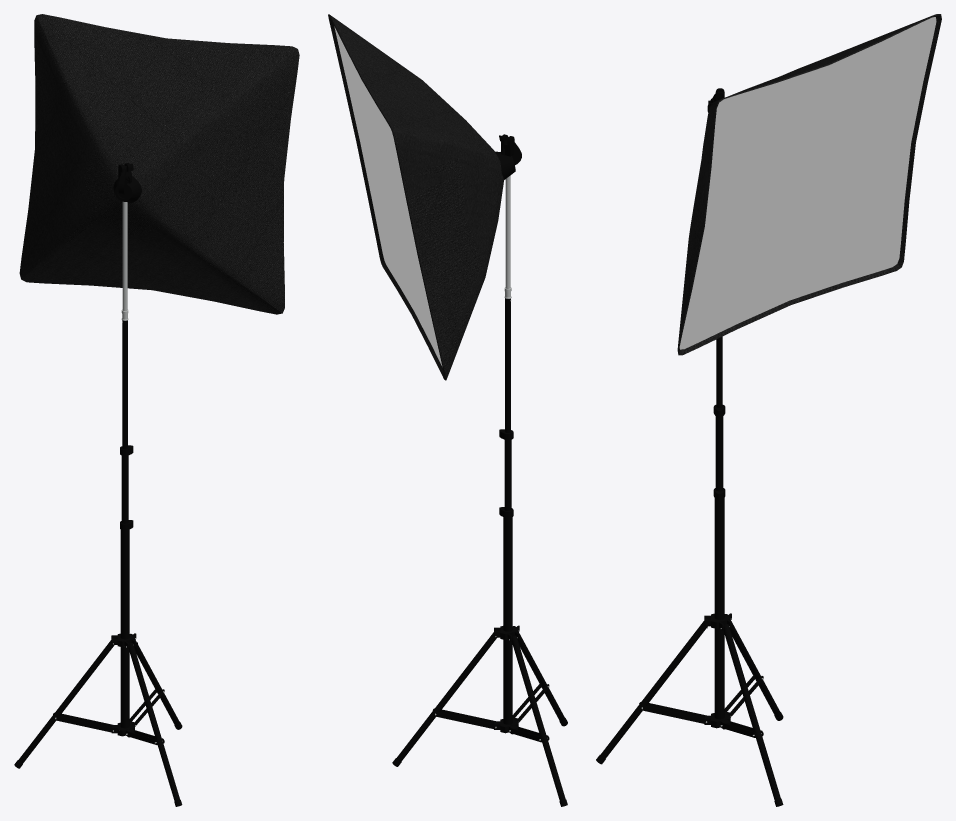
The model's file is faretto_sx.obj.
3 renders of one model, left to right at view 1: azimuth 30°, elevation 25°; view 2: azimuth 150°, elevation 25°; view 3: azimuth 270°, elevation 25°, orthographic. The views are drawn at different scales.
Parts seen in each view (by area): view 1: #LMP0001_Lightbox.002, #LMP0001_Bottom.002, #LMP0001_Top.002, #LMP0001_Middle.002; view 2: #LMP0001_Lightbox.002, #LMP0001_Bottom.002, #LMP0001_Top.002, #LMP0001_Middle.002; view 3: #LMP0001_Lightbox.002, #LMP0001_Bottom.002, #LMP0001_Middle.002.
Part boxes in pixels (left/top/right/bottom): #LMP0001_Lightbox.002: left=19, top=14, right=299, bottom=314; #LMP0001_Bottom.002: left=14, top=520, right=182, bottom=806; #LMP0001_Top.002: left=121, top=201, right=128, bottom=449; #LMP0001_Middle.002: left=120, top=445, right=133, bottom=523; #LMP0001_Lightbox.002: left=328, top=14, right=521, bottom=380; #LMP0001_Bottom.002: left=392, top=507, right=567, bottom=806; #LMP0001_Top.002: left=504, top=175, right=511, bottom=432; #LMP0001_Middle.002: left=499, top=429, right=513, bottom=511; #LMP0001_Lightbox.002: left=677, top=14, right=941, bottom=355; #LMP0001_Bottom.002: left=596, top=488, right=783, bottom=806; #LMP0001_Middle.002: left=713, top=405, right=725, bottom=491.
Bounding box in the file's own units: 0.9903 × 2.51 × 1.04.
